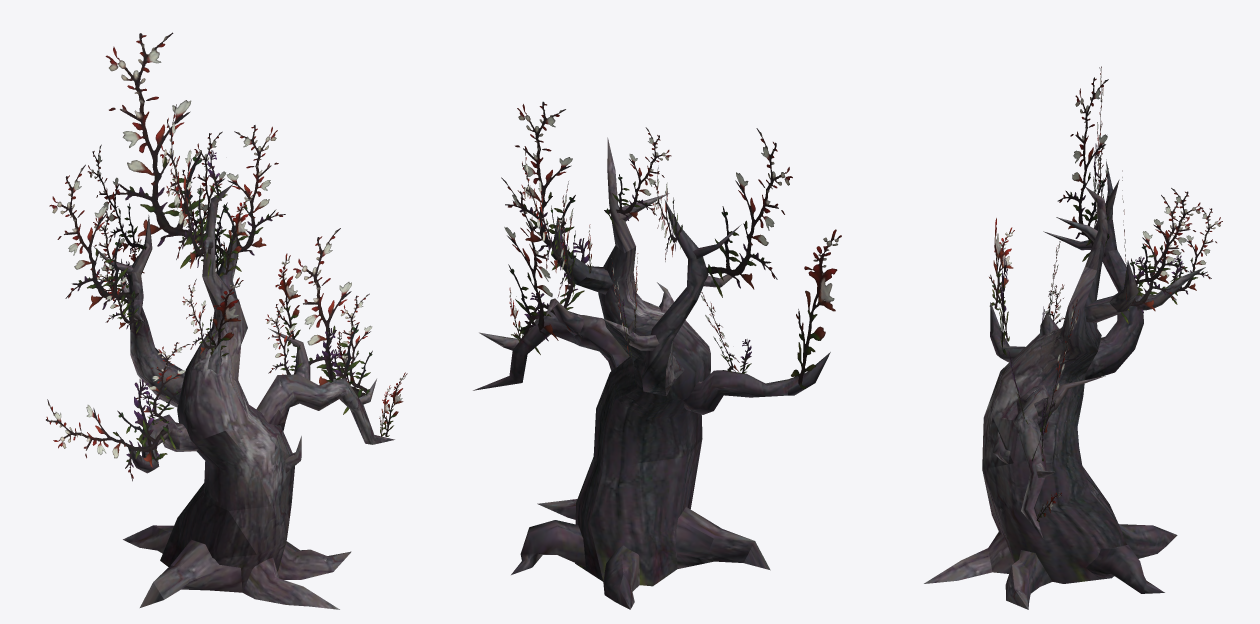
The model's file is Map01_Tree_01.FBX.
3 views of the same model, side by side, from view 1: azimuth 30°, elevation 25°; view 2: azimuth 150°, elevation 25°; view 3: azimuth 270°, elevation 25° (orthographic). The views are drawn at different scales.
Visible parts, largest first — view 1: DrawCall_982, DrawCall_985; view 2: DrawCall_982, DrawCall_985; view 3: DrawCall_982, DrawCall_985.
Part boxes in pixels (x1,y1,x2,y2): DrawCall_982: (93,184,394,609); DrawCall_985: (46,32,407,481); DrawCall_982: (473,137,830,609); DrawCall_985: (501,101,841,389); DrawCall_982: (924,159,1205,609); DrawCall_985: (989,66,1222,521).
Bounding box in the file's own units: 725 × 969 × 529.
